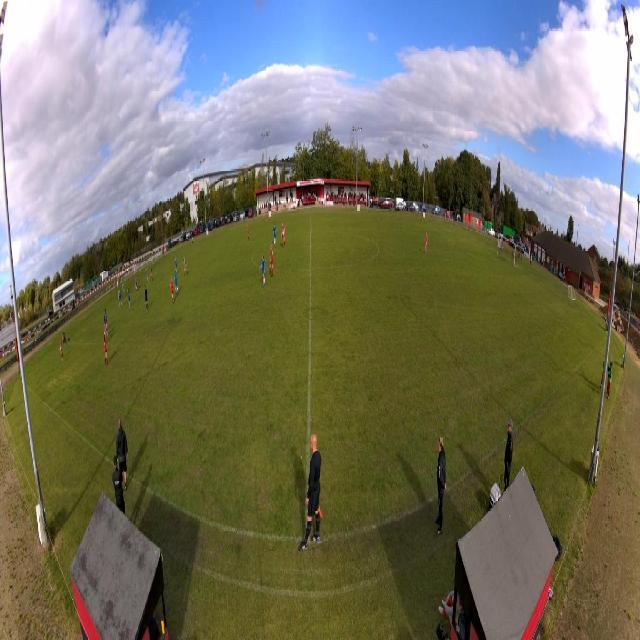player: (260, 253, 266, 290), (269, 242, 274, 279), (103, 333, 108, 367), (104, 306, 109, 335), (281, 222, 286, 249), (174, 268, 179, 295), (103, 314, 108, 338), (170, 277, 174, 304), (127, 289, 132, 310), (273, 221, 277, 247), (183, 256, 188, 276), (424, 230, 428, 254), (144, 286, 148, 310), (59, 338, 63, 362), (118, 289, 122, 309), (146, 266, 150, 284), (174, 257, 178, 274), (136, 274, 140, 290), (122, 282, 126, 298), (247, 223, 250, 241), (150, 267, 153, 284), (134, 276, 137, 293)
